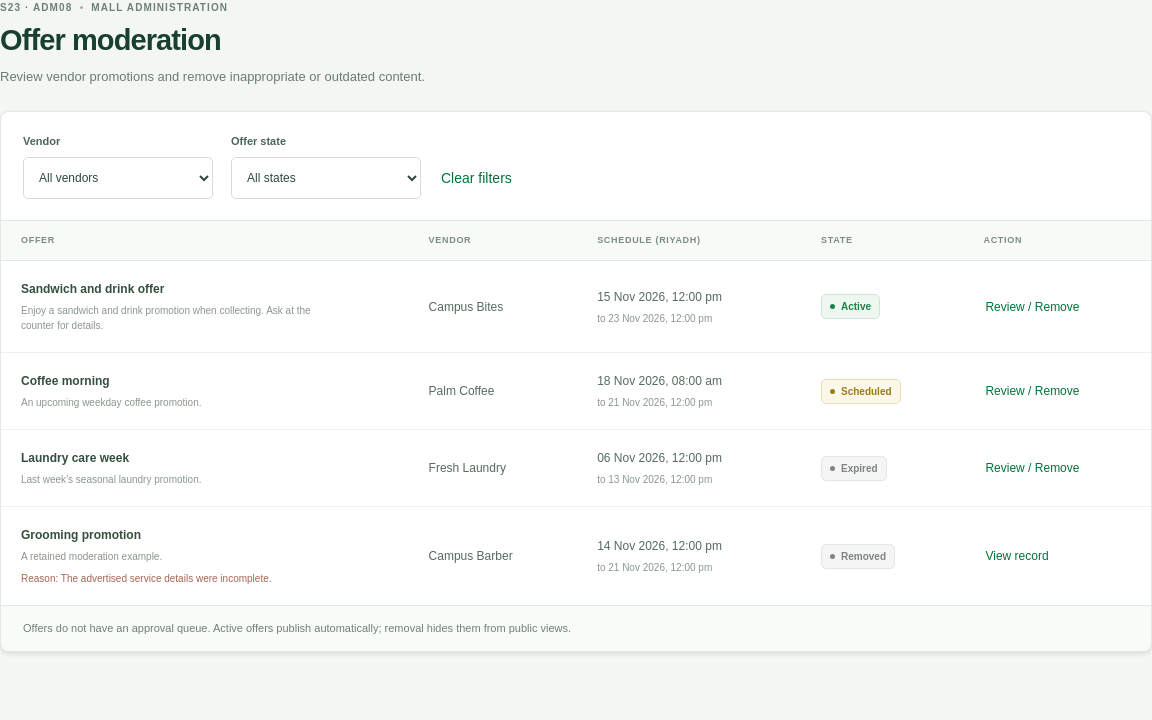
Scenario: Owned admin screens › records an offer removal reason while preserving the content
Later steps or results of the test are not shown.
What coordinates should you click on to do the following:
click the button "Review / Remove" in the row of "Sandwich and drink offer"
I would click on:
 (1032, 307)
Its box is [983,291,1081,323].
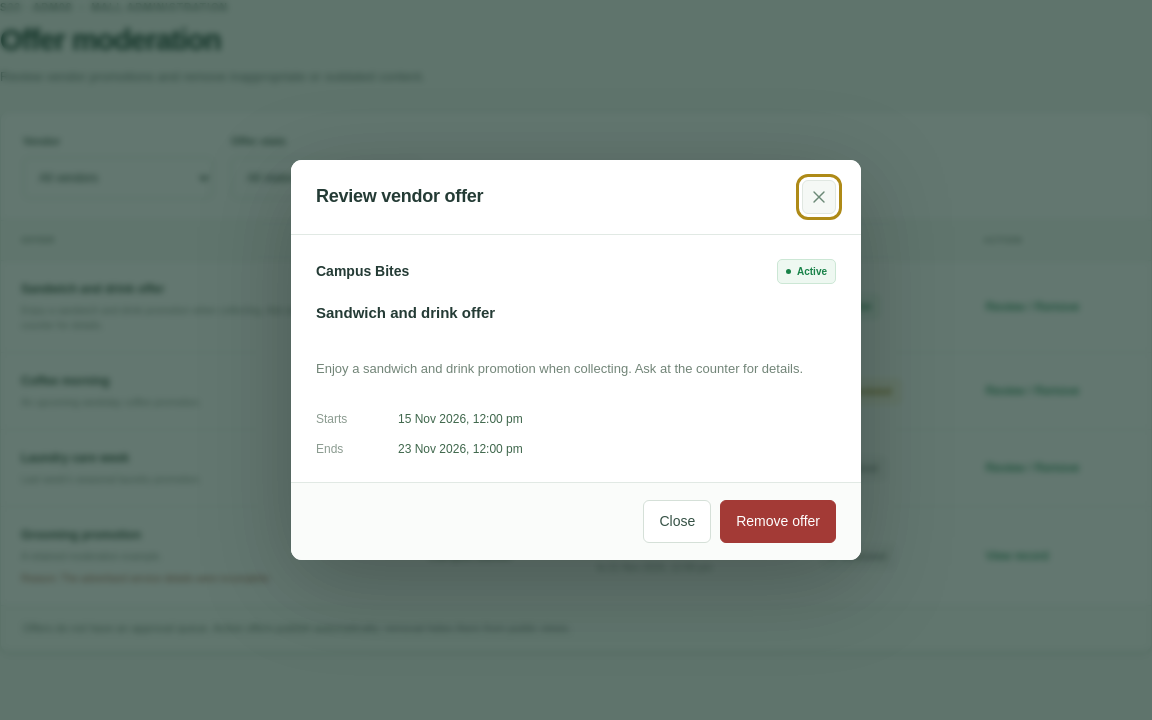
What coordinates should you click on to do the following:
click the button "Remove offer"
I would click on:
 (778, 522)
Its box is [720,500,836,543].
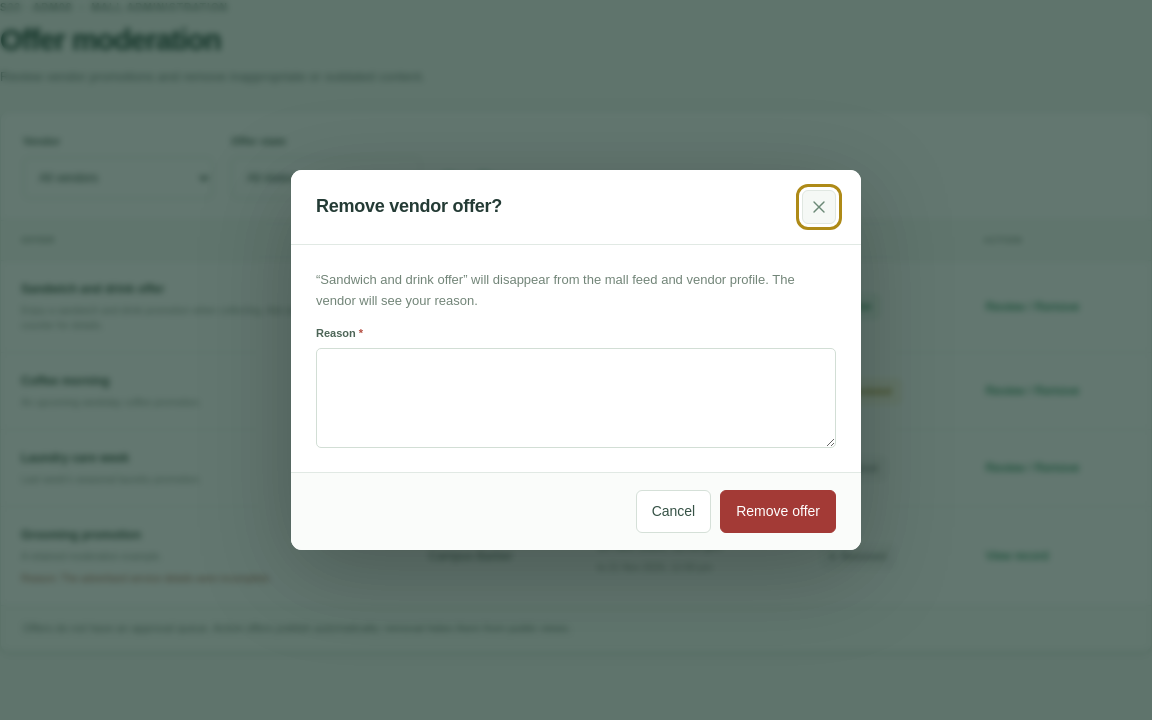
What coordinates should you click on to do the following:
click the button "Remove offer"
I would click on:
 (778, 512)
Its box is [720,490,836,533].
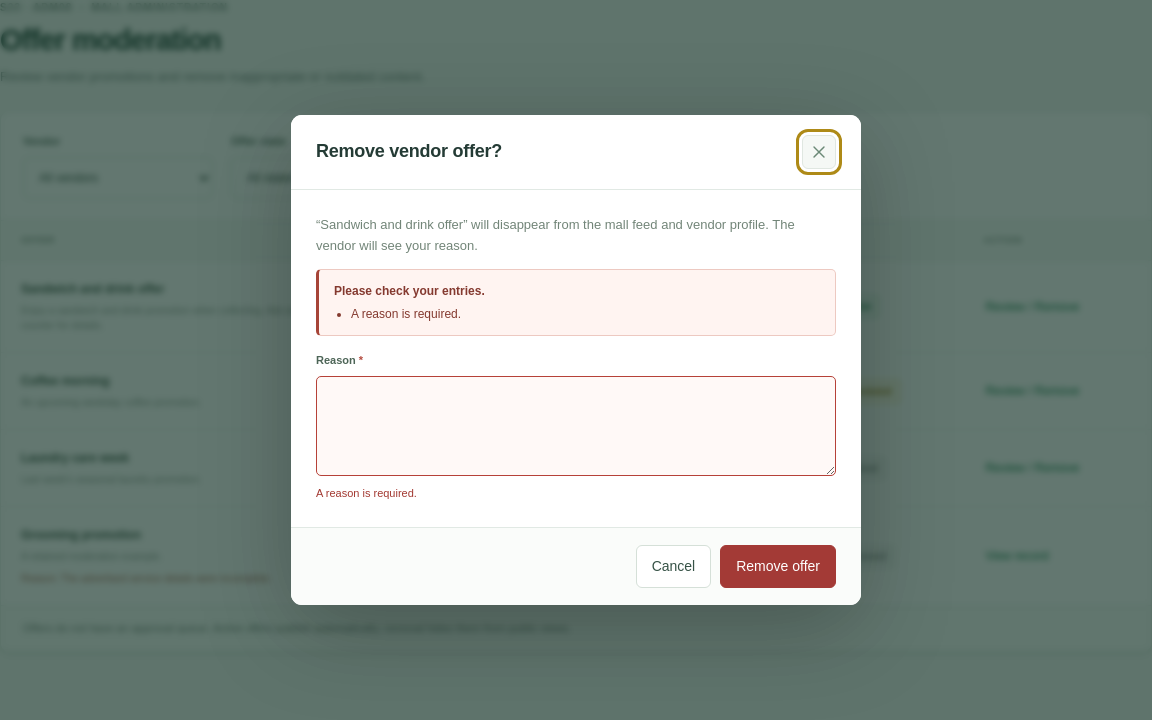
Now the message "Please check your entries. A reason is required." is shown, box [316,269,836,336]
